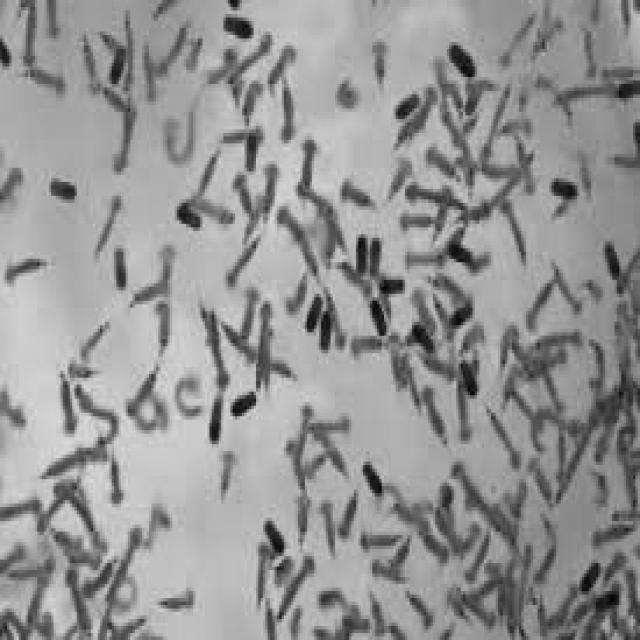larvas: (472, 154, 534, 222), (299, 180, 345, 252), (131, 247, 174, 311), (279, 209, 318, 276), (105, 531, 142, 599), (75, 389, 117, 444), (395, 91, 437, 146), (202, 310, 230, 391), (228, 33, 272, 83), (278, 560, 317, 616), (158, 18, 191, 82), (487, 410, 522, 470), (481, 87, 511, 155), (502, 10, 537, 68), (40, 478, 76, 532), (186, 152, 222, 204), (226, 235, 262, 286), (440, 113, 474, 165), (420, 389, 450, 446), (128, 364, 162, 414), (373, 536, 413, 578), (28, 570, 51, 640), (113, 105, 136, 174), (535, 514, 557, 585), (60, 486, 97, 527), (499, 208, 527, 262), (539, 78, 571, 124), (313, 434, 348, 476), (167, 112, 194, 166), (557, 444, 584, 498), (554, 263, 582, 315), (66, 574, 91, 630), (526, 279, 554, 329), (80, 559, 116, 597), (224, 322, 258, 361), (134, 395, 167, 435), (485, 505, 516, 547), (411, 290, 437, 340), (80, 322, 110, 365), (239, 80, 268, 124), (417, 521, 448, 562), (435, 61, 462, 108), (549, 588, 581, 626), (20, 0, 38, 67), (466, 532, 490, 582), (424, 354, 464, 384), (614, 123, 640, 169), (589, 386, 623, 421), (325, 290, 346, 346), (28, 64, 64, 96), (81, 39, 100, 99), (259, 305, 273, 386), (478, 152, 520, 179), (101, 36, 126, 81), (406, 590, 434, 630), (460, 592, 491, 628), (430, 145, 460, 182), (596, 412, 618, 462), (531, 407, 556, 451), (98, 197, 118, 250), (436, 509, 460, 553), (530, 455, 552, 503), (208, 47, 235, 86), (2, 389, 27, 431), (113, 574, 142, 610), (60, 370, 76, 435), (176, 377, 202, 417), (46, 453, 86, 479), (2, 260, 49, 282), (433, 277, 467, 307), (187, 204, 237, 224), (458, 465, 480, 510), (343, 178, 376, 208), (245, 194, 268, 237), (582, 605, 610, 640), (295, 401, 313, 455), (342, 264, 371, 297), (536, 330, 581, 351), (147, 505, 171, 544), (455, 389, 472, 444), (463, 80, 492, 112), (269, 48, 294, 85), (617, 254, 640, 294), (318, 500, 335, 554), (534, 23, 560, 57), (402, 357, 420, 406), (288, 271, 308, 315), (54, 531, 79, 566), (0, 164, 23, 202), (0, 544, 24, 580), (532, 590, 550, 638), (404, 184, 452, 202), (156, 300, 172, 353), (500, 322, 520, 364), (610, 608, 636, 640), (286, 444, 305, 487), (124, 18, 136, 86), (389, 161, 413, 195), (144, 44, 158, 102), (100, 85, 130, 112), (590, 528, 635, 546), (3, 607, 29, 638), (111, 617, 146, 640), (363, 530, 403, 550), (561, 418, 593, 443), (340, 490, 357, 537), (0, 498, 42, 517), (616, 415, 635, 457), (242, 288, 260, 332), (269, 354, 297, 382), (571, 597, 599, 625), (589, 338, 604, 390), (12, 564, 53, 583), (464, 326, 483, 367), (541, 374, 563, 409), (221, 450, 236, 501), (232, 173, 252, 211), (320, 588, 353, 611), (349, 333, 385, 354), (559, 88, 613, 102), (282, 84, 295, 142), (97, 596, 114, 640), (310, 417, 349, 436), (520, 141, 533, 197), (159, 589, 195, 609), (432, 302, 452, 338), (302, 136, 316, 187), (256, 546, 269, 600), (304, 452, 329, 480), (461, 528, 484, 558), (371, 590, 385, 639), (345, 606, 370, 633), (388, 342, 402, 390), (67, 363, 102, 382), (603, 552, 625, 582), (404, 253, 448, 268), (224, 130, 265, 146), (447, 587, 466, 621), (505, 362, 522, 400), (394, 506, 433, 522), (494, 504, 516, 532), (593, 470, 610, 506), (402, 212, 436, 230), (436, 180, 446, 241), (210, 394, 222, 444), (512, 390, 532, 420), (585, 30, 597, 80), (482, 561, 501, 592), (70, 449, 109, 464), (506, 568, 514, 640), (625, 565, 637, 613), (610, 388, 628, 420), (468, 252, 494, 274), (334, 84, 356, 110), (151, 2, 178, 23), (299, 488, 310, 539), (46, 0, 60, 40), (188, 36, 203, 73), (517, 579, 526, 640), (539, 2, 552, 44), (88, 528, 106, 558), (273, 554, 292, 582), (381, 484, 404, 507), (374, 40, 386, 84), (325, 208, 335, 259), (580, 154, 592, 196), (264, 602, 277, 640), (111, 454, 121, 503), (264, 161, 274, 209), (290, 604, 303, 640), (513, 486, 525, 524), (625, 447, 640, 477), (626, 468, 637, 508), (315, 625, 344, 640), (558, 428, 566, 482), (584, 280, 602, 304), (386, 620, 407, 640), (0, 615, 16, 640), (612, 510, 640, 524), (435, 622, 456, 640), (522, 543, 534, 572), (497, 568, 504, 616), (441, 484, 454, 509), (633, 598, 640, 640), (554, 630, 580, 640), (621, 0, 630, 27), (591, 0, 601, 21)
